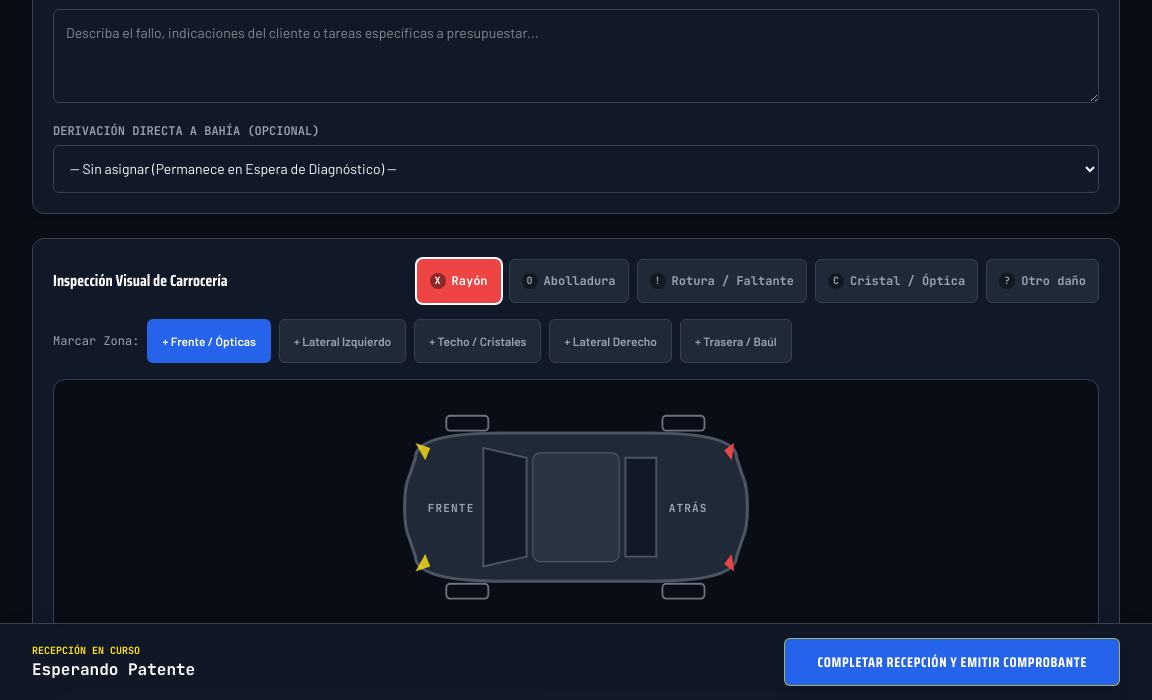
Test: RecepcionPage - Mostrador Rápido & Recepción Express › permite registrar y remover puntos de daños preexistentes
This screenshot has width=1152, height=700.
(page scrolled)
Expected: the text "Sin daños marcados" is shown, [53, 652, 544, 666]
// Agregar daño en Frente
Step 1. Click the button "+ Frente / Ópticas" → (209, 341), box [147, 319, 271, 363]
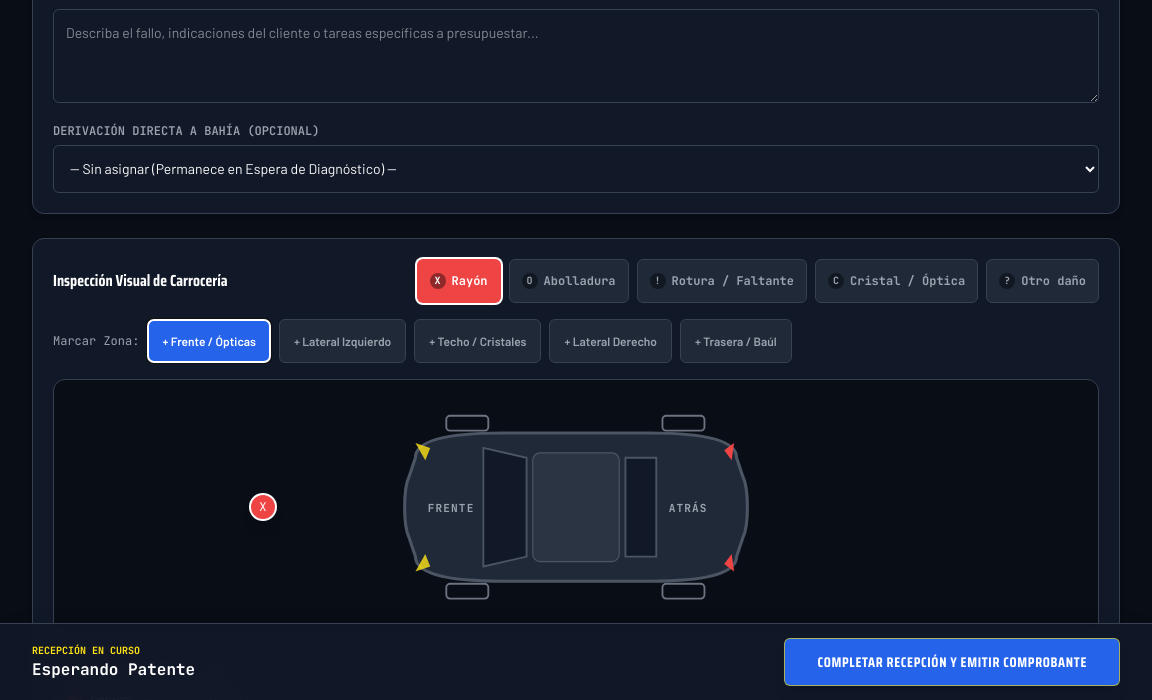
Expected: the text "Daños preexistentes constatados (1):" is shown, [53, 651, 312, 667]
// Agregar daño en Trasera
Step 2. Click the button "+ Trasera / Baúl" → (736, 341), box [680, 319, 792, 363]
(page scrolled)
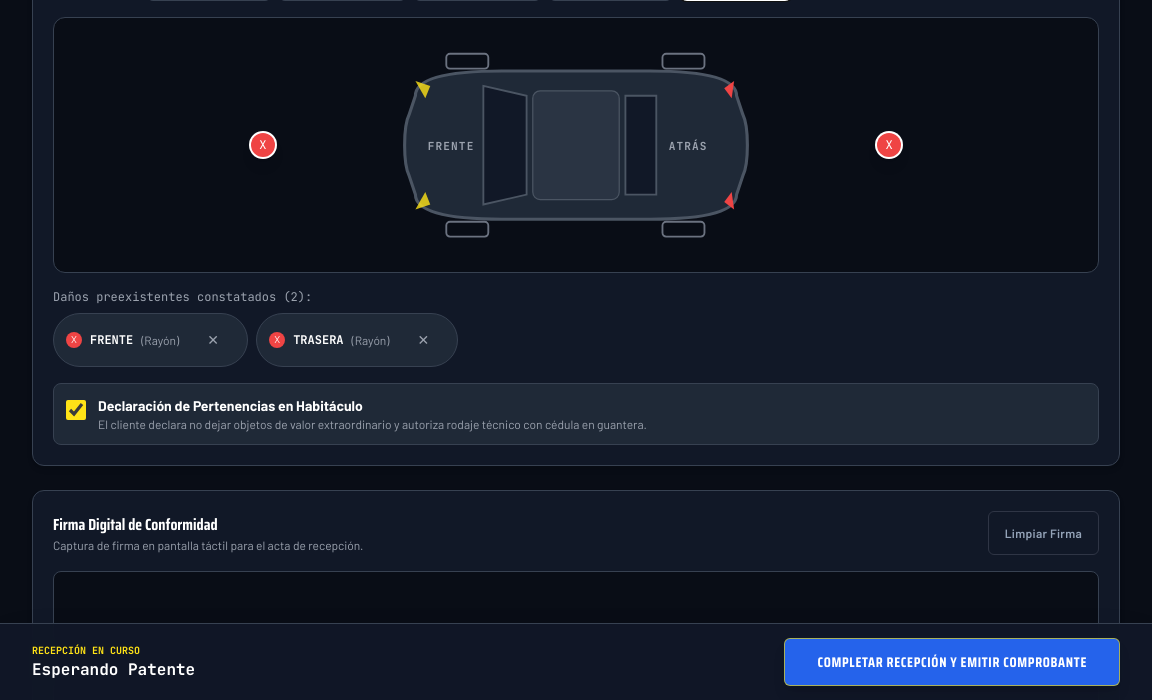
Expected: the text "Daños preexistentes constatados (2):" is shown, [53, 289, 312, 305]
Expected: the button named "Eliminar daño en TRASERA" is shown, [402, 318, 446, 362]
// Eliminar daño en Frente
Step 3. Click the button named "Eliminar daño en FRENTE" → (213, 340), box [191, 318, 235, 362]
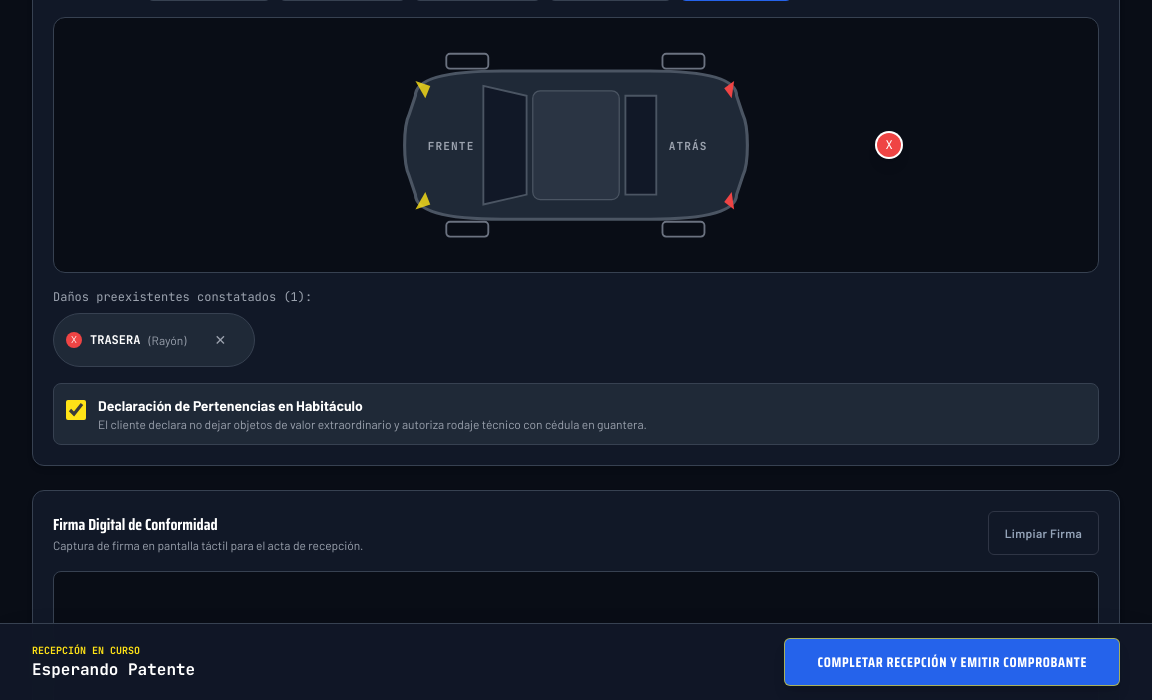
Expected: the button named "Eliminar daño en TRASERA" is shown, [198, 318, 242, 362]
Expected: the text "Daños preexistentes constatados (1):" is shown, [53, 289, 312, 305]
